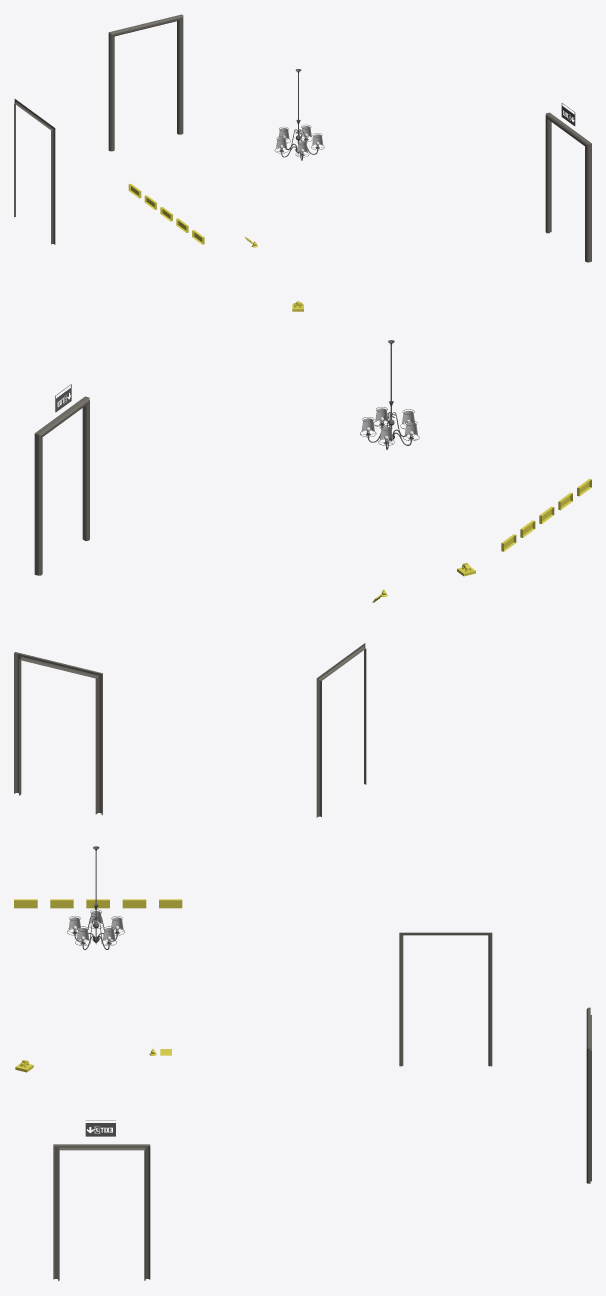
Rendered from reception_metal.glb.
3 views of the same model, one above another, from view 1: azimuth 30°, elevation 25°; view 2: azimuth 150°, elevation 25°; view 3: azimuth 270°, elevation 25° (orthographic). The views are drawn at different scales.
Parts seen in each view (by area): view 1: frame, metal, gold, LightBulbs; view 2: frame, metal, gold, LightBulbs; view 3: frame, gold, metal, LightBulbs.
Part boxes in pixels (left/top/right/bottom): frame: left=14, top=14, right=591, bottom=262; metal: left=274, top=69, right=575, bottom=160; gold: left=128, top=183, right=303, bottom=311; LightBulbs: left=276, top=126, right=323, bottom=153; frame: left=14, top=396, right=366, bottom=817; metal: left=55, top=340, right=419, bottom=449; gold: left=372, top=479, right=591, bottom=602; LightBulbs: left=361, top=408, right=418, bottom=441; frame: left=53, top=932, right=591, bottom=1280; gold: left=14, top=899, right=182, bottom=1072; metal: left=67, top=846, right=124, bottom=1136; LightBulbs: left=68, top=911, right=123, bottom=941.
Size of the model in its own units: 7.42 by 4.27 by 7.98.
